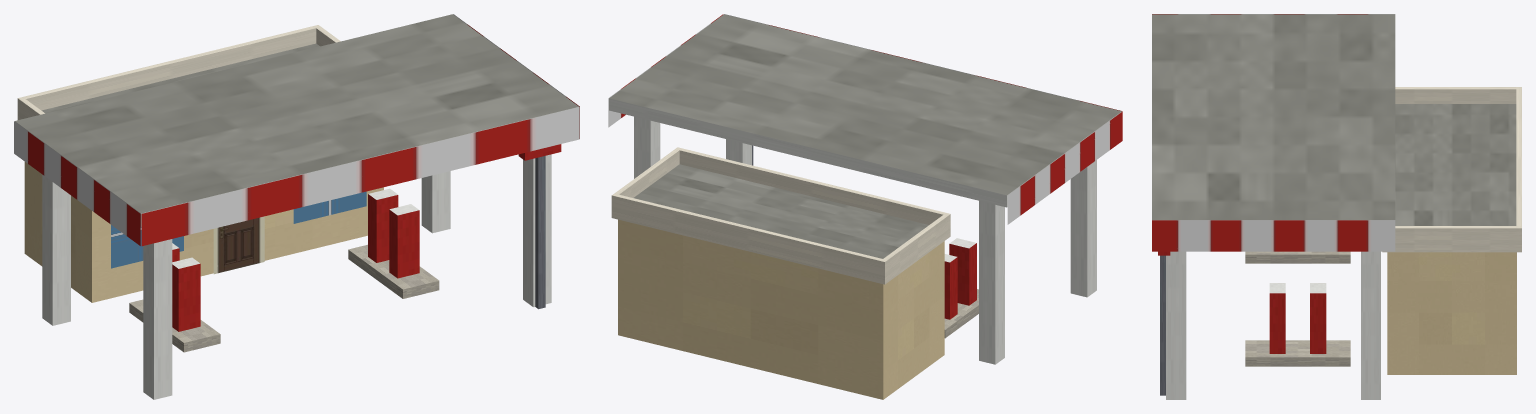
Rendered from filling-cream.glb.
The picture shows the model from 3 angles, left to right: view 1: azimuth 30°, elevation 25°; view 2: azimuth 150°, elevation 25°; view 3: azimuth 270°, elevation 25°; orthographic projection. The views are drawn at different scales.
Parts seen in each view (by area): view 1: filling-cream; view 2: filling-cream; view 3: filling-cream.
Part boxes in pixels (x1,y1,x2,y2): filling-cream: (14, 14, 579, 399); filling-cream: (608, 14, 1122, 399); filling-cream: (1152, 14, 1521, 399).
Bounding box in the file's own units: 12.04 × 5.15 × 9.14.
1 material, 1 textured.
